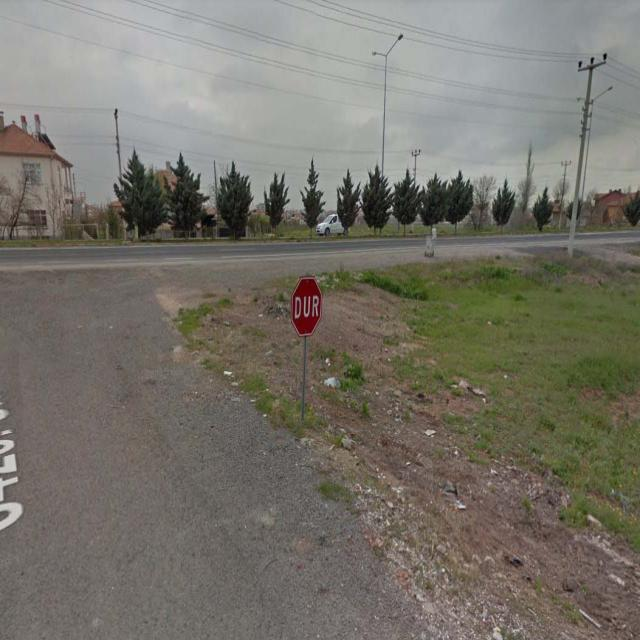dur: (291, 274, 321, 336)
